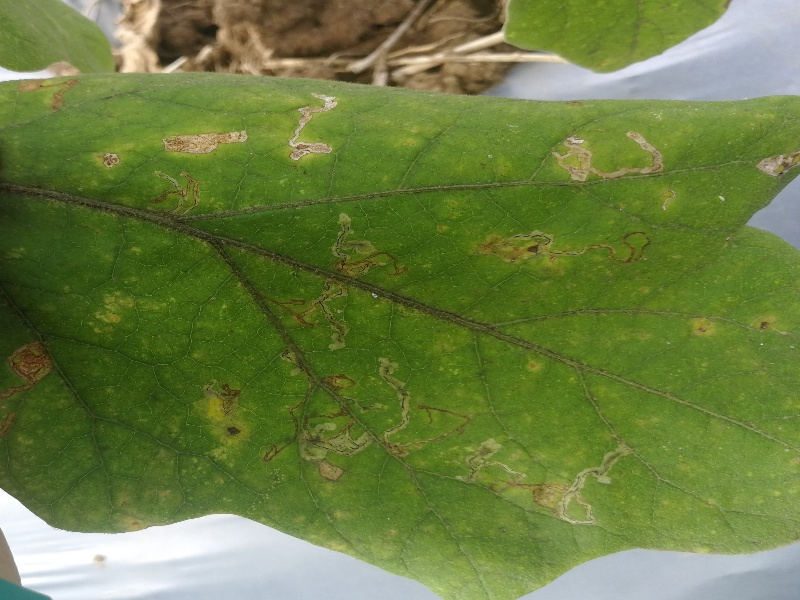leafminer: (258, 355, 463, 499), (433, 437, 643, 528), (288, 207, 406, 352), (464, 207, 655, 276), (542, 126, 682, 195), (276, 80, 354, 179), (1, 329, 66, 431), (155, 122, 258, 164), (138, 166, 208, 224), (189, 369, 247, 427), (748, 143, 800, 192), (91, 148, 124, 176)
